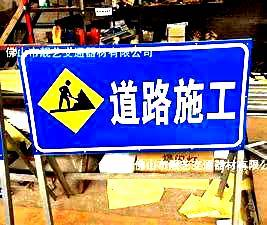sign: (27, 43, 247, 153)
